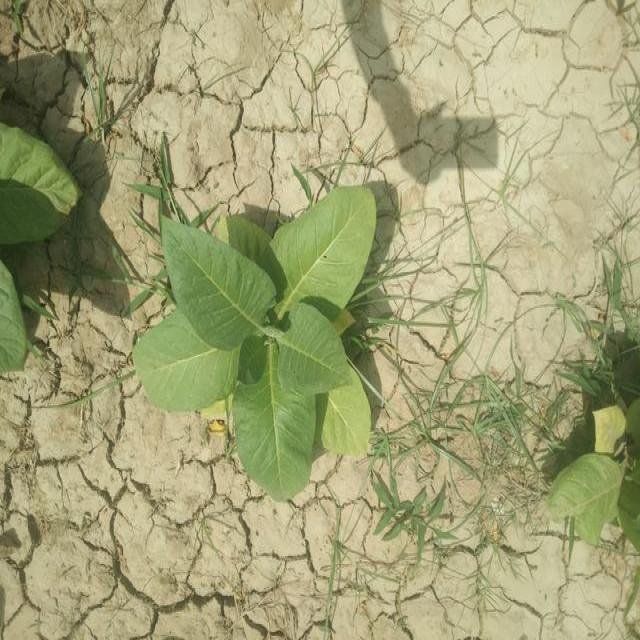crop: (146, 198, 374, 484), (0, 104, 79, 390)
